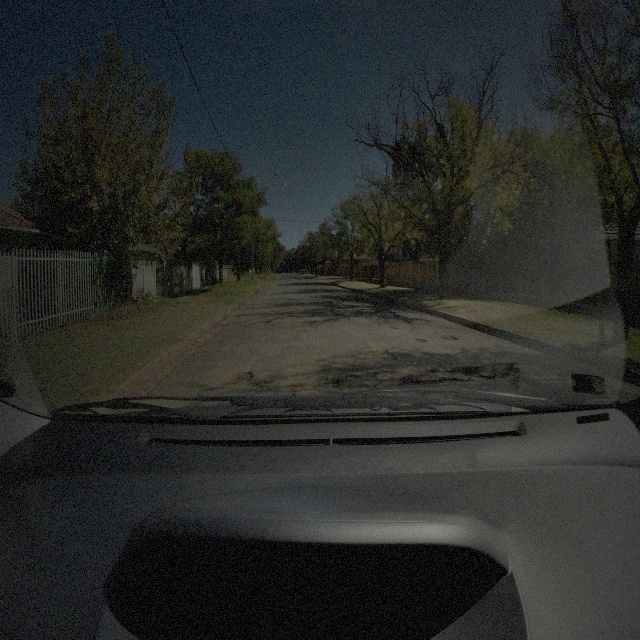pothole: (372, 346, 397, 364), (234, 371, 254, 384), (440, 332, 458, 342), (415, 336, 427, 344), (296, 328, 310, 334), (389, 325, 399, 331)
